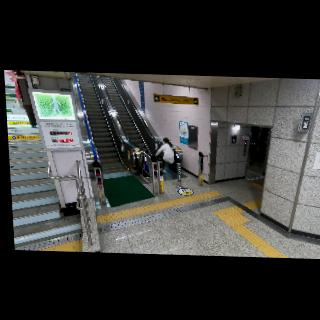normal: (153, 136, 179, 173)
